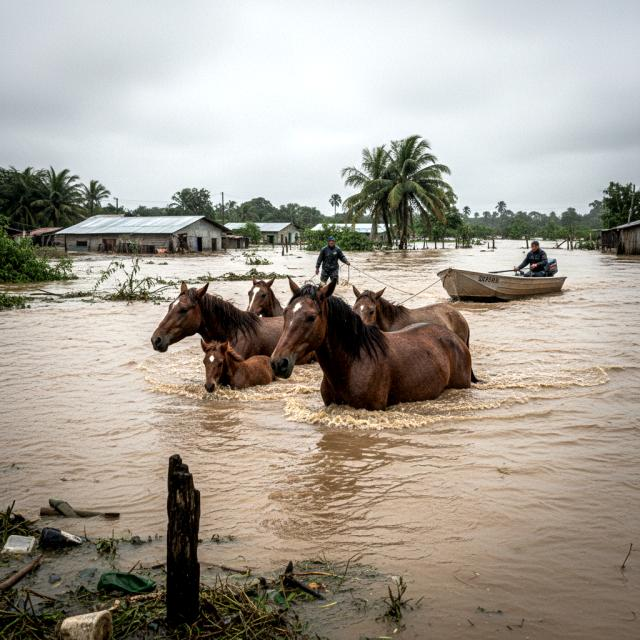civilian: (310, 234, 345, 295), (517, 240, 556, 276)
horse: (273, 290, 493, 412), (149, 278, 303, 378), (346, 278, 480, 345), (199, 336, 277, 400), (236, 273, 288, 322)
